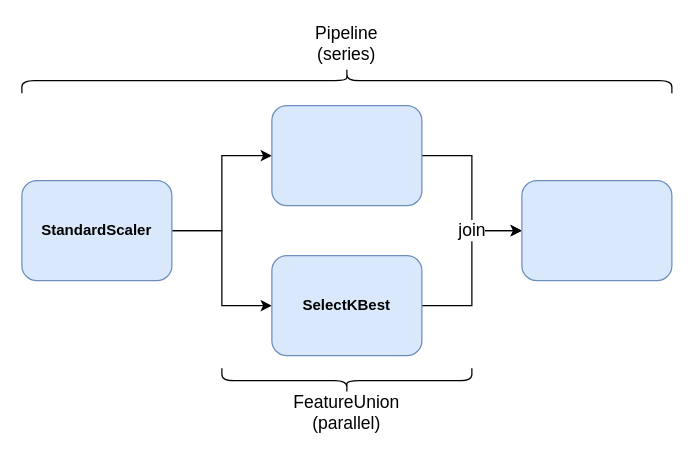
This 694x454 diagram has some shape labels left out. Each missing label, with the centre of its shape:
LogisticRegression: pixel 596 230
PCA: pixel 346 155
